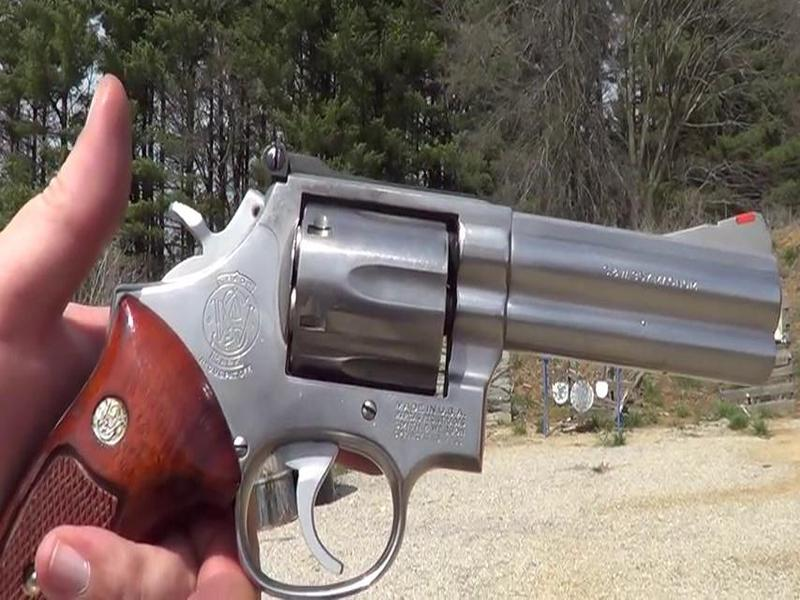Revolver: (67, 134, 796, 600)
